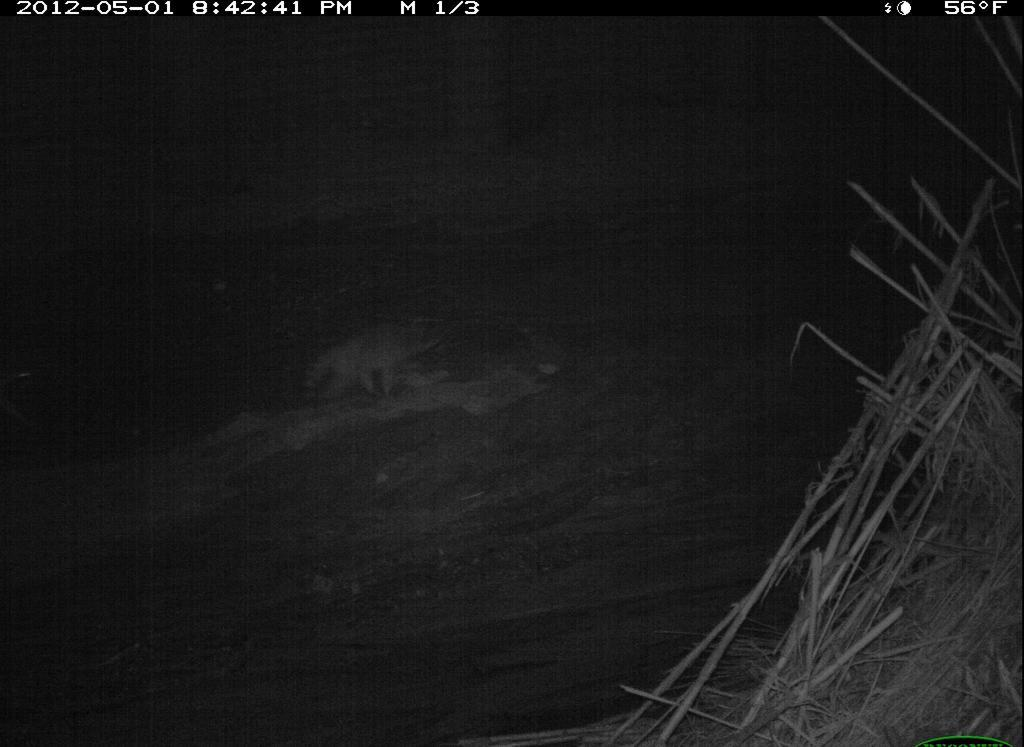raccoon: (299, 308, 470, 418)
